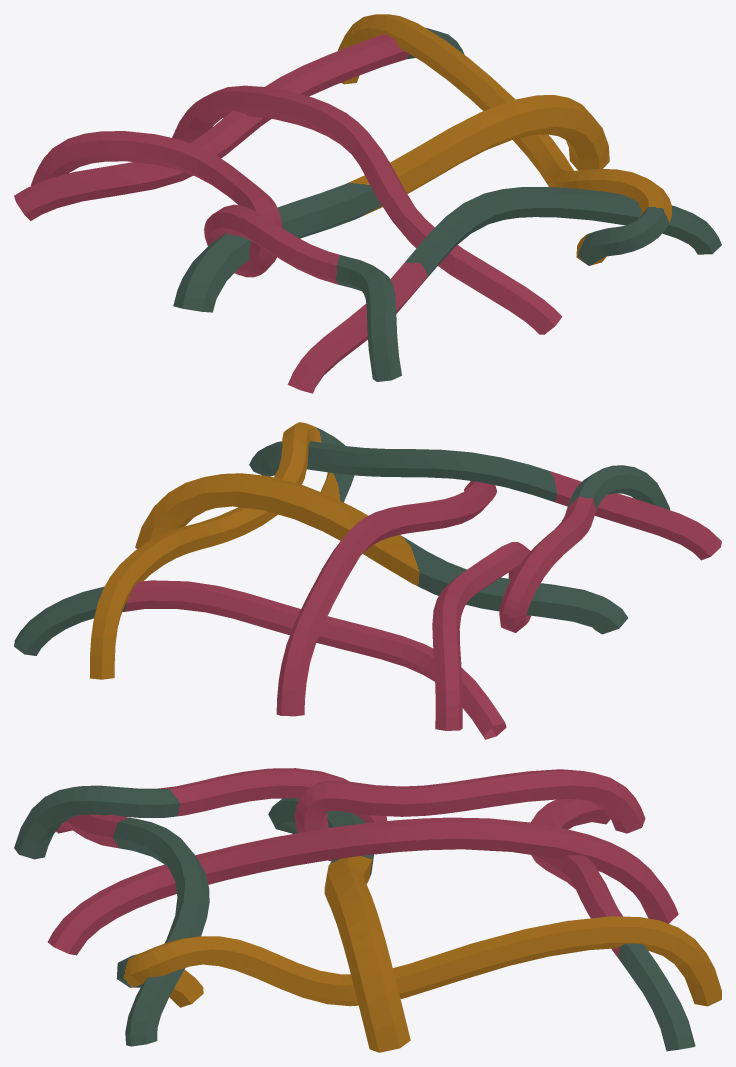
Rendered from VinesGroundModel.glb.
The picture shows the model from 3 angles, top to bottom: view 1: azimuth 30°, elevation 25°; view 2: azimuth 150°, elevation 25°; view 3: azimuth 270°, elevation 25°; orthographic projection. The views are drawn at different scales.
Visible parts, largest first — view 1: NurbsPath.003; view 2: NurbsPath.003; view 3: NurbsPath.003.
Boxes of the visible parts, x1,y1,x2,y2 form: NurbsPath.003: [14, 14, 721, 393]; NurbsPath.003: [14, 422, 721, 739]; NurbsPath.003: [14, 768, 721, 1052].
Size of the model in its own units: 4.82 by 1.06 by 5.68.
Materials: 1 (1 with a texture image).
